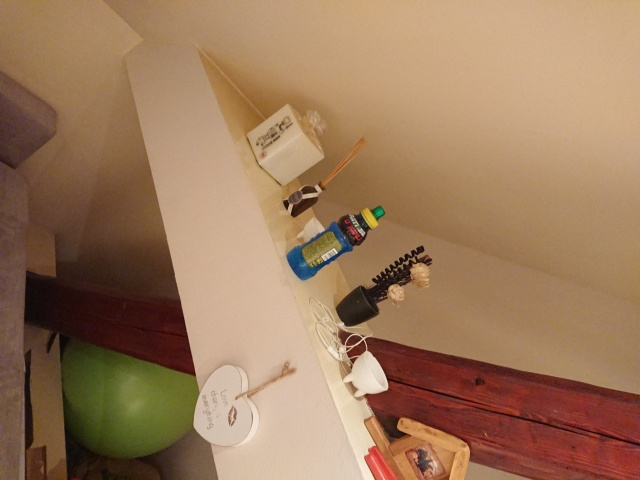Vindi Iso Sport Forest Strawberries 500mL: (285, 204, 387, 281)
